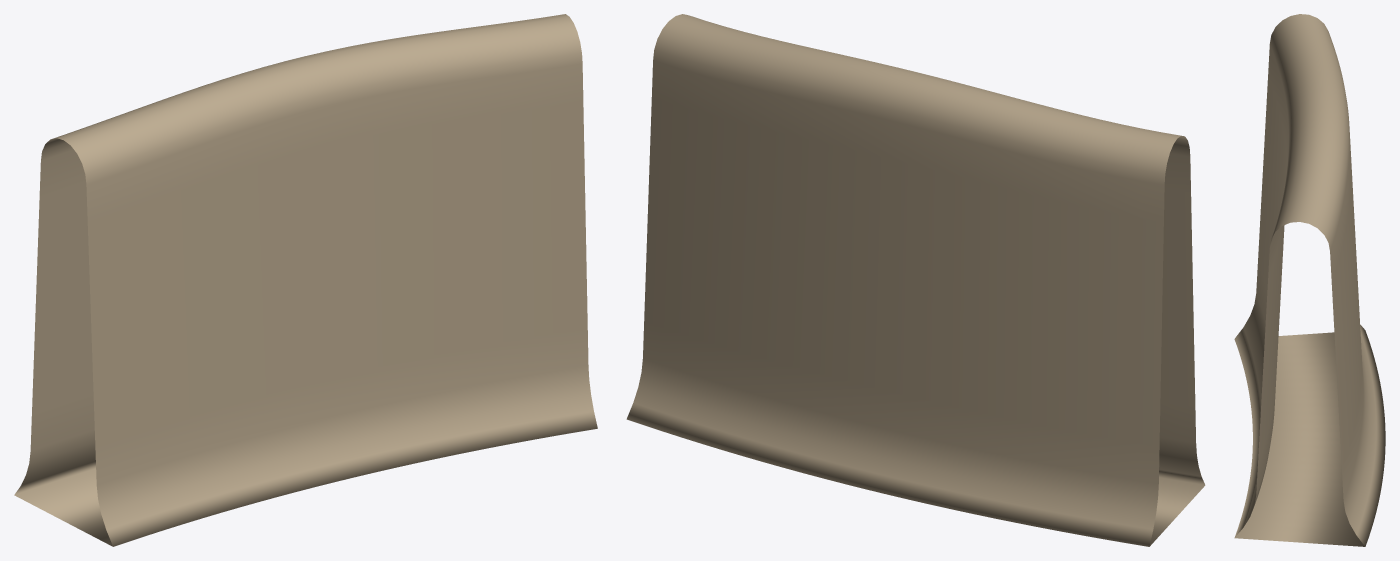
Rendered from KFB_Wall_curved_ring_r4.r4.glb.
3 renders of one model, left to right at view 1: azimuth 30°, elevation 25°; view 2: azimuth 150°, elevation 25°; view 3: azimuth 270°, elevation 25°, orthographic. The views are drawn at different scales.
Parts seen in each view (by area): view 1: KFB_Wall_curved_ring_r4; view 2: KFB_Wall_curved_ring_r4; view 3: KFB_Wall_curved_ring_r4.
Part boxes in pixels (x1,y1,x2,y2): KFB_Wall_curved_ring_r4: [14, 14, 597, 546]; KFB_Wall_curved_ring_r4: [626, 14, 1205, 546]; KFB_Wall_curved_ring_r4: [1234, 14, 1385, 546].
Size of the model in its own units: 5.22 by 3.69 by 1.54.
